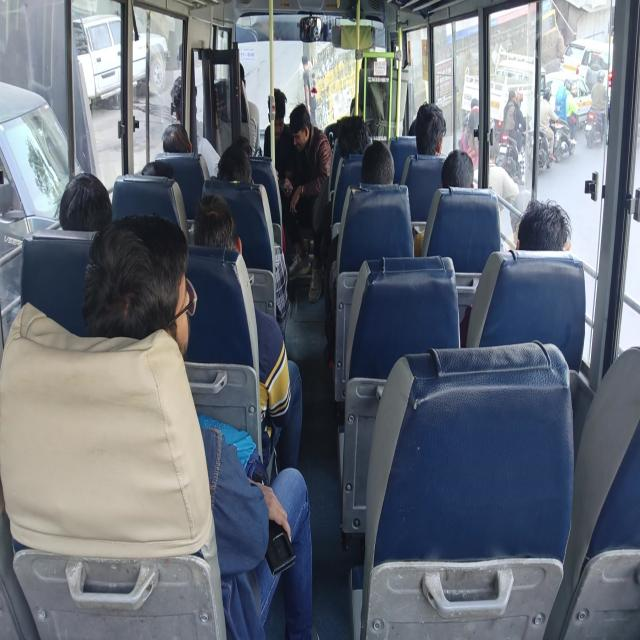person: (112, 231, 204, 350), (193, 199, 247, 259), (527, 206, 580, 252), (59, 177, 100, 230), (439, 153, 483, 202), (210, 149, 253, 192), (152, 109, 191, 156), (420, 96, 445, 163), (345, 106, 371, 166), (368, 149, 402, 191), (137, 146, 166, 194), (172, 74, 199, 120), (359, 43, 387, 87), (288, 115, 310, 152), (266, 103, 288, 131), (232, 65, 250, 97)
